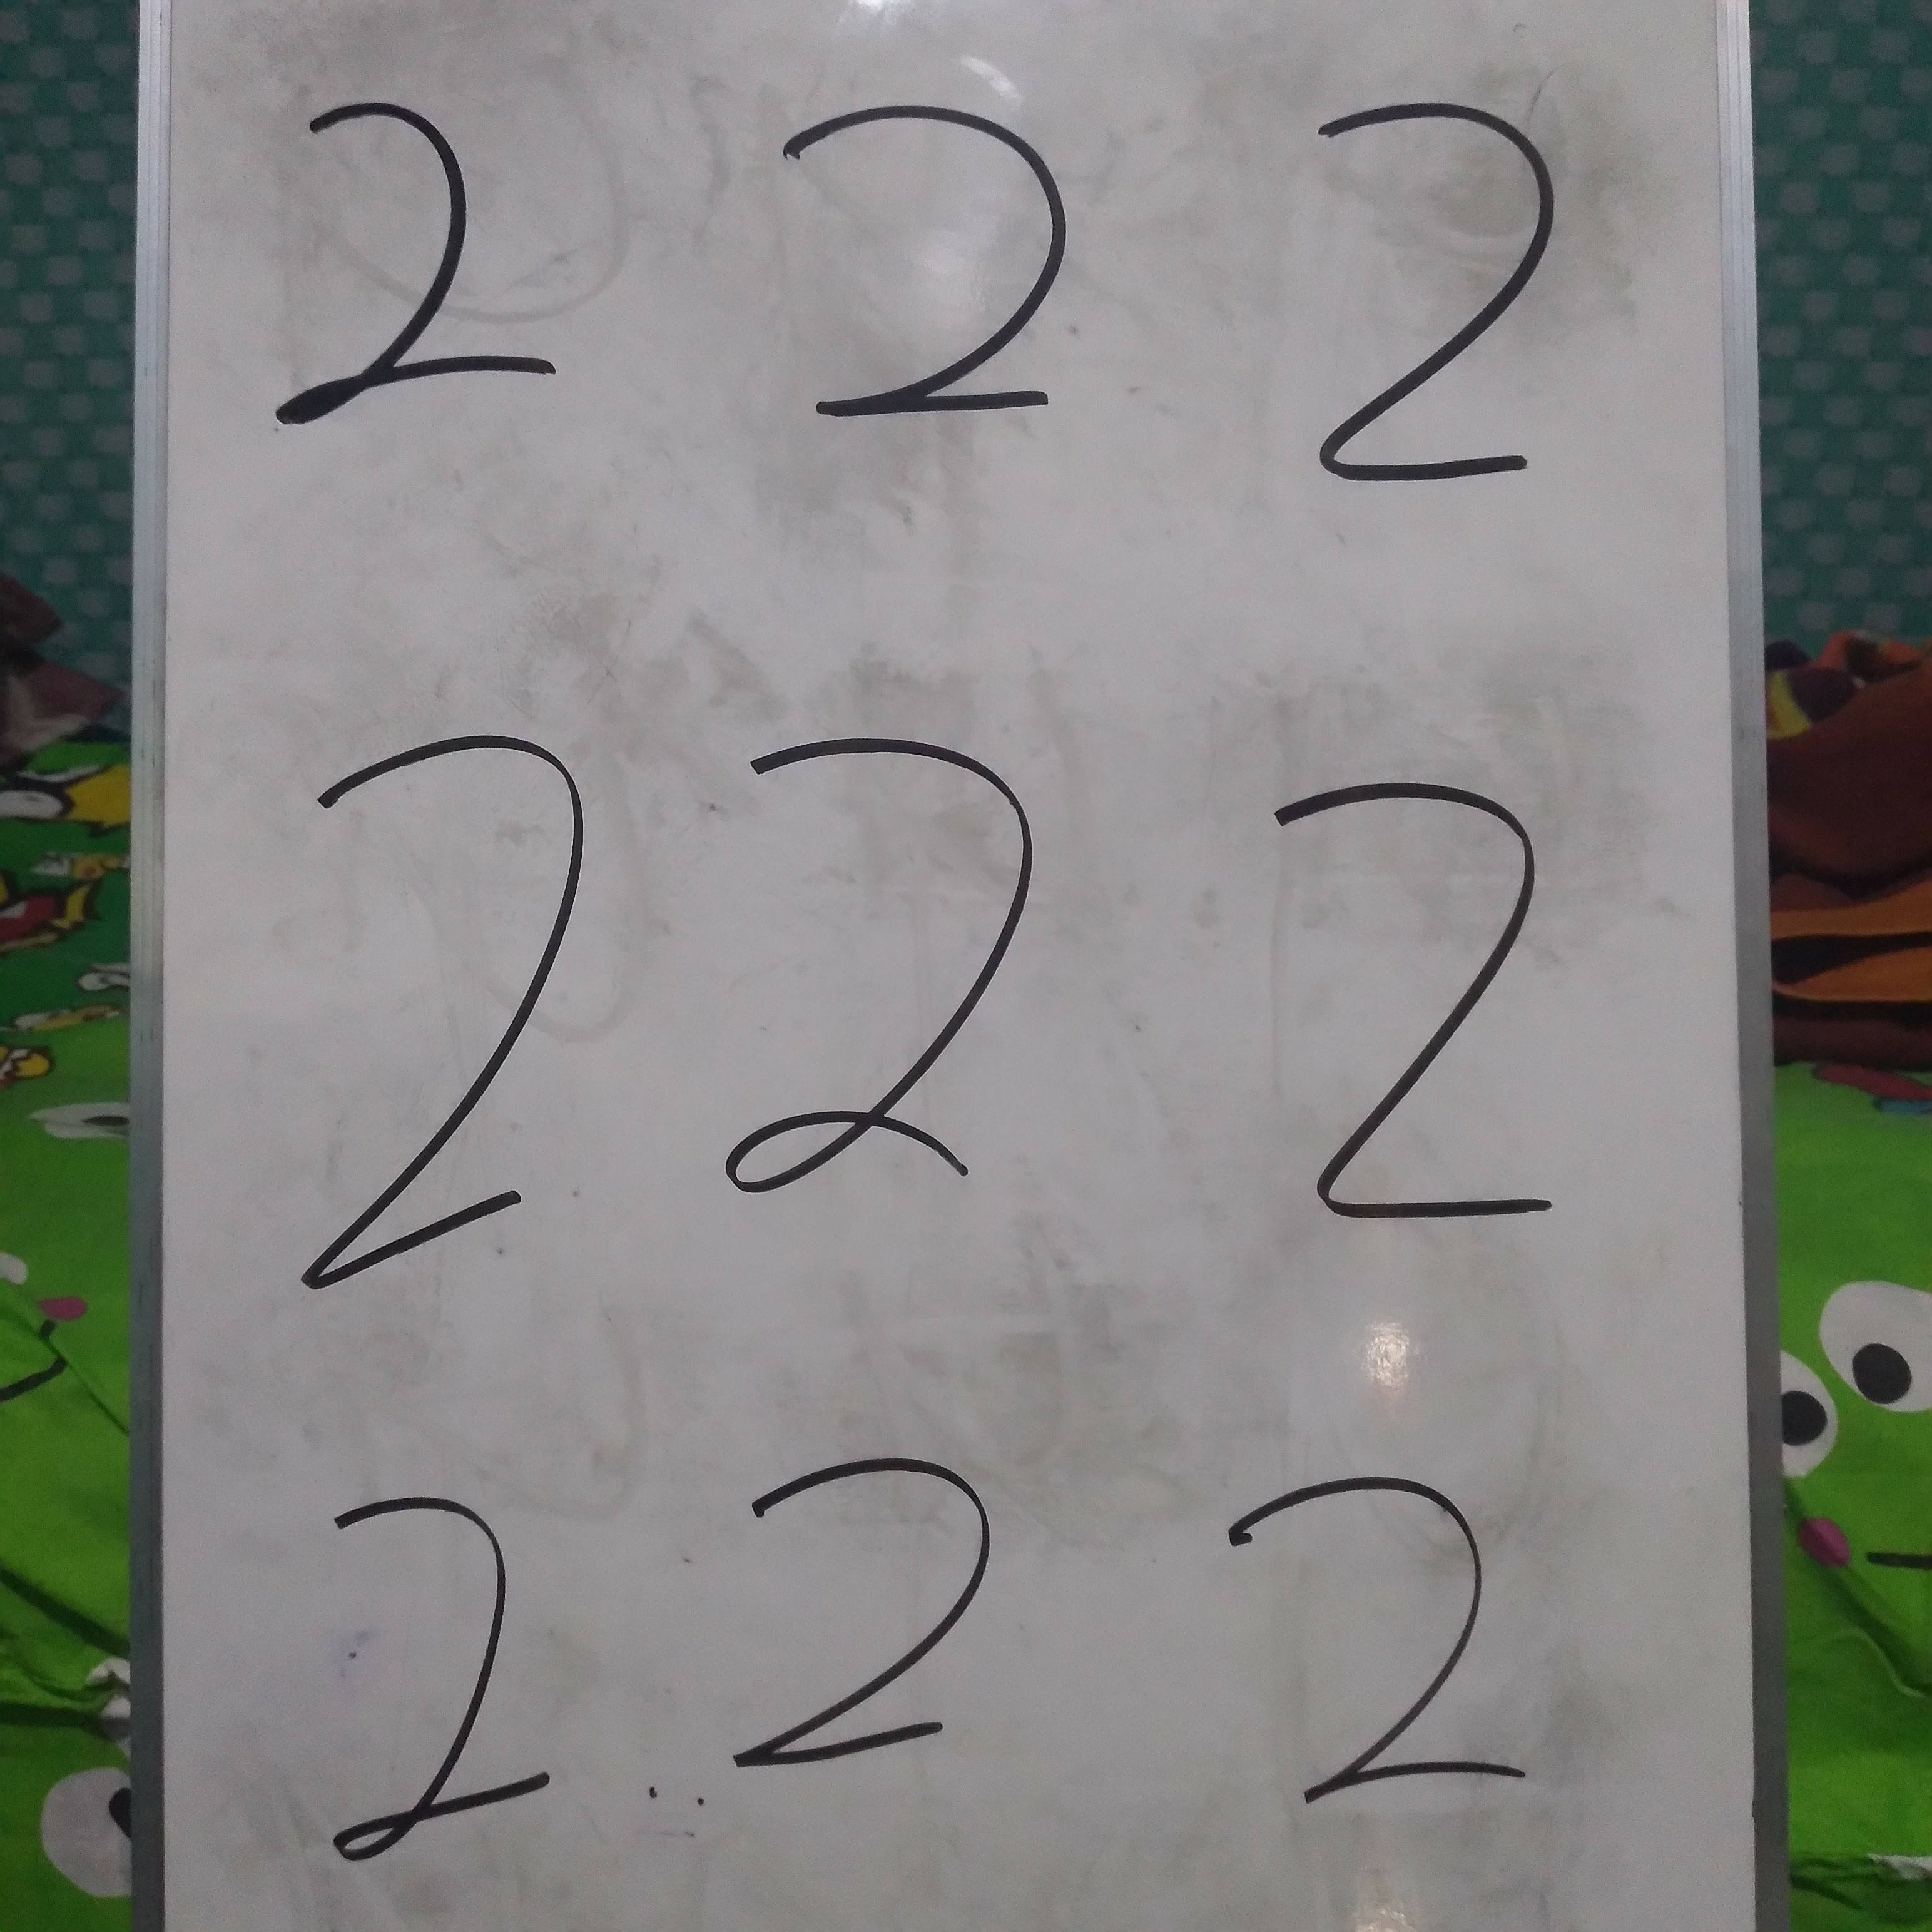num2: (245, 663, 656, 1321), (663, 658, 1074, 1315), (1215, 666, 1626, 1324), (1246, 96, 1601, 502), (242, 51, 597, 457), (691, 1412, 1046, 1818), (1208, 1447, 1563, 1853), (739, 51, 1094, 457), (254, 1468, 609, 1873)
